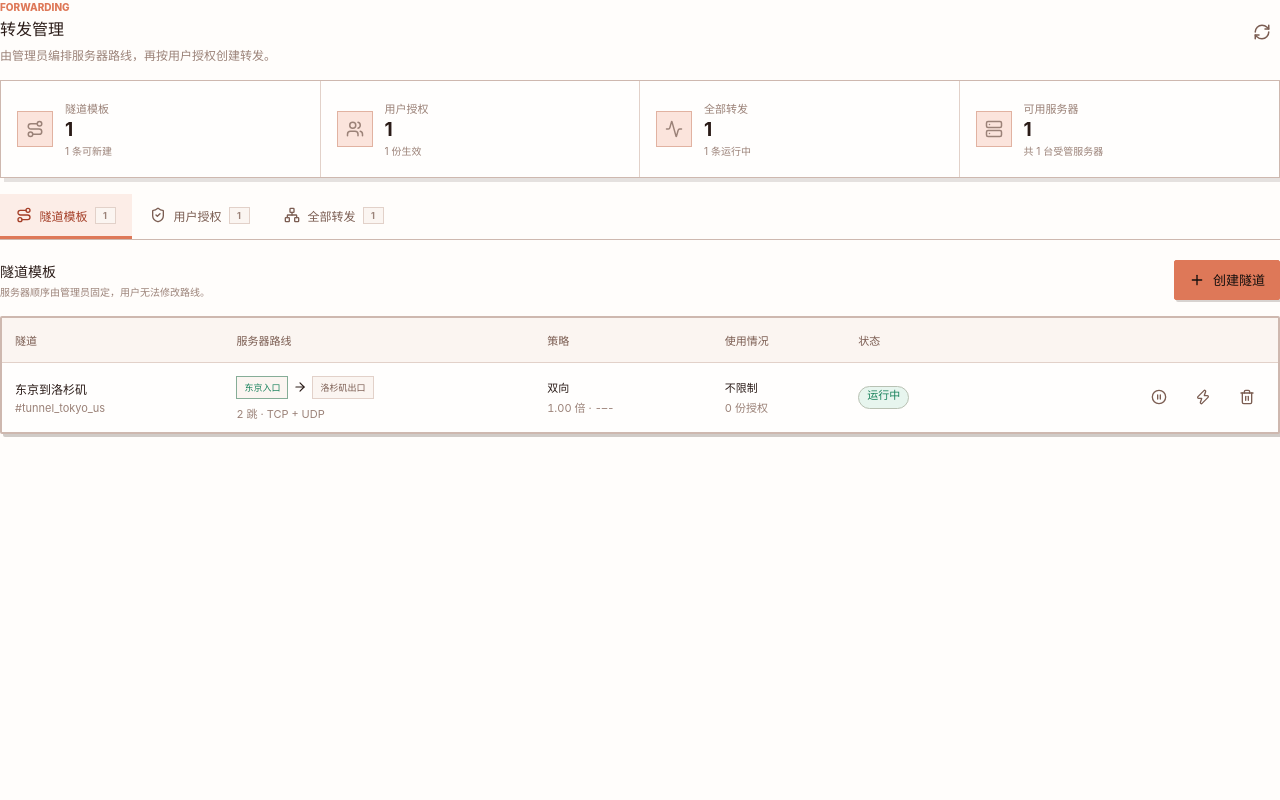
Test: administrator tunnel composition › keeps successful admin data usable when one user's grants fail
Check: the text "东京到洛杉矶" is shown, box x1=15 y1=382 x2=87 y2=396
Click the tab "用户授权 1": (200, 216) x1=134 y1=194 x2=266 y2=239
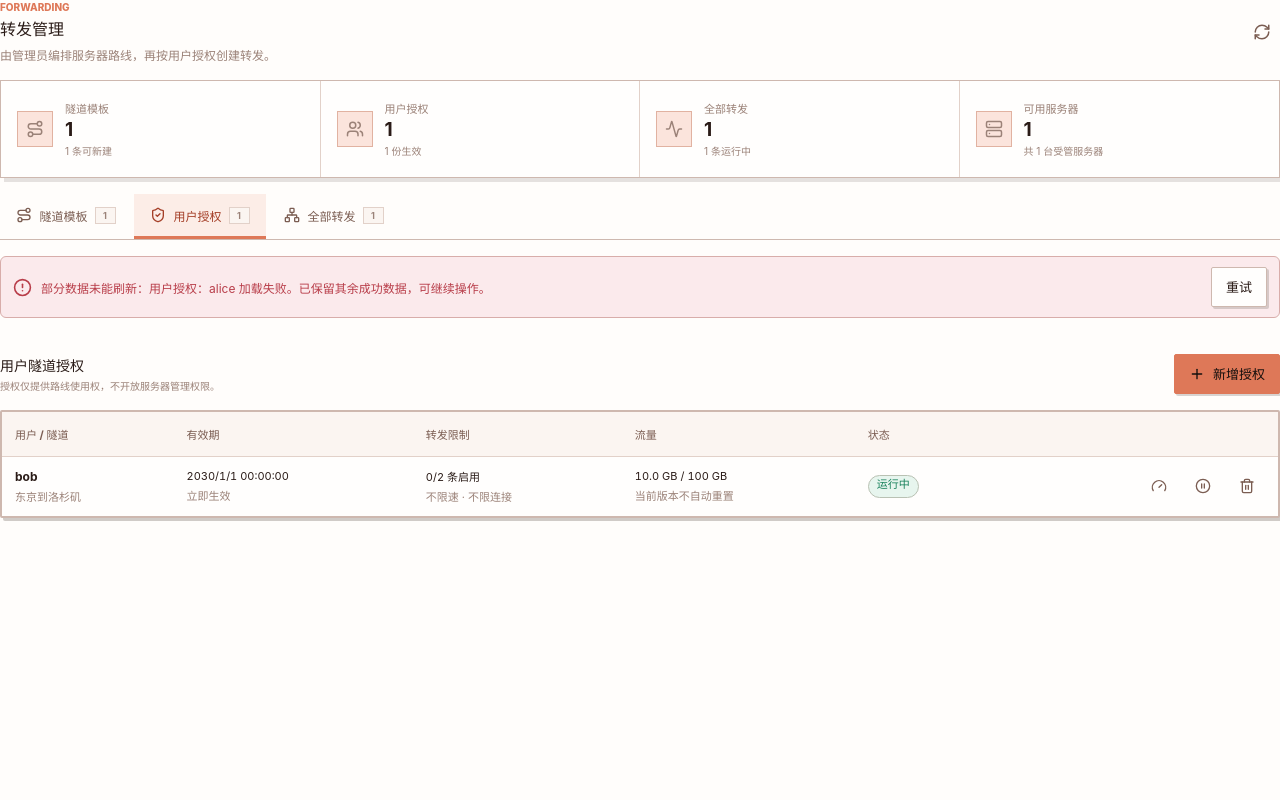
Check: the message shows "用户授权：alice 加载失败", box x1=41 y1=280 x2=491 y2=296
Check: the text "bob" is shown, box x1=15 y1=469 x2=38 y2=484
Click the button "新增授权": (1227, 374) x1=1174 y1=354 x2=1279 y2=394
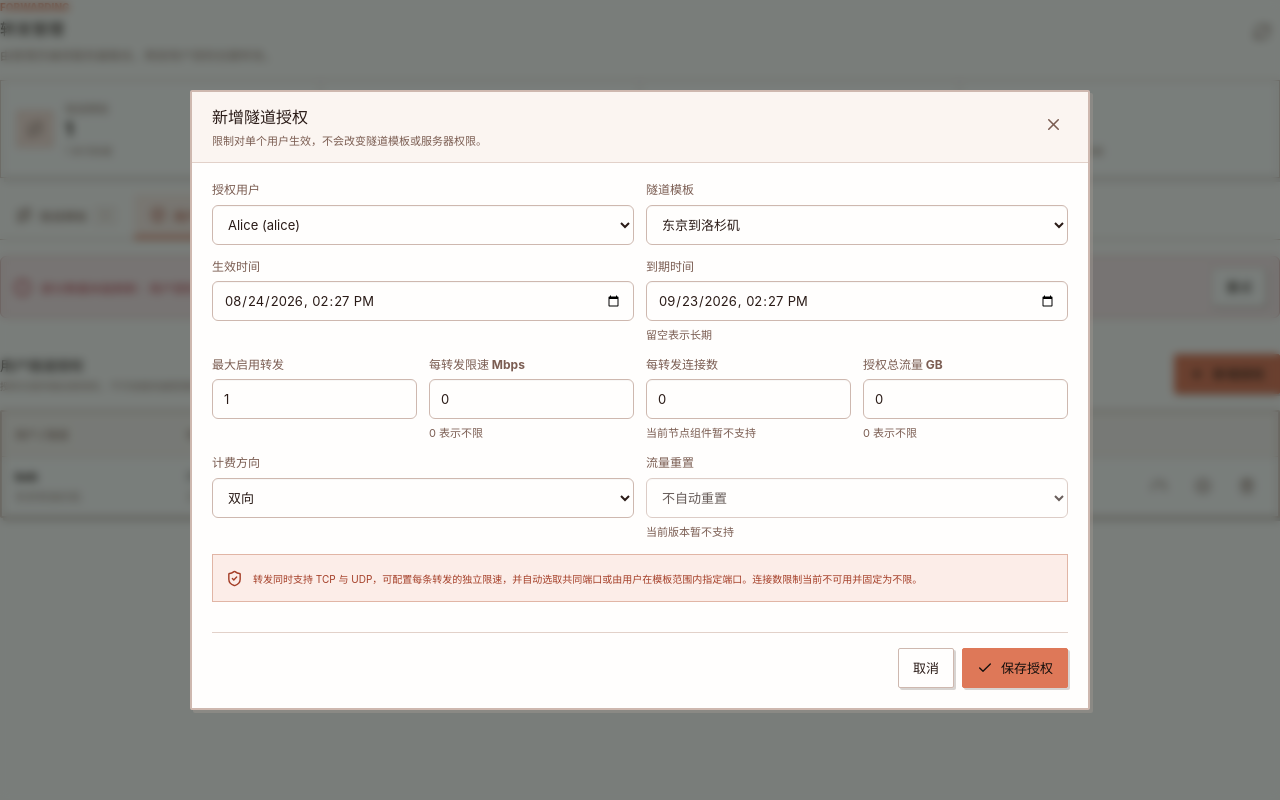
Check: the dialog "新增隧道授权" is shown, box x1=190 y1=90 x2=1090 y2=710
Click the button "取消": (926, 668) x1=898 y1=648 x2=954 y2=688
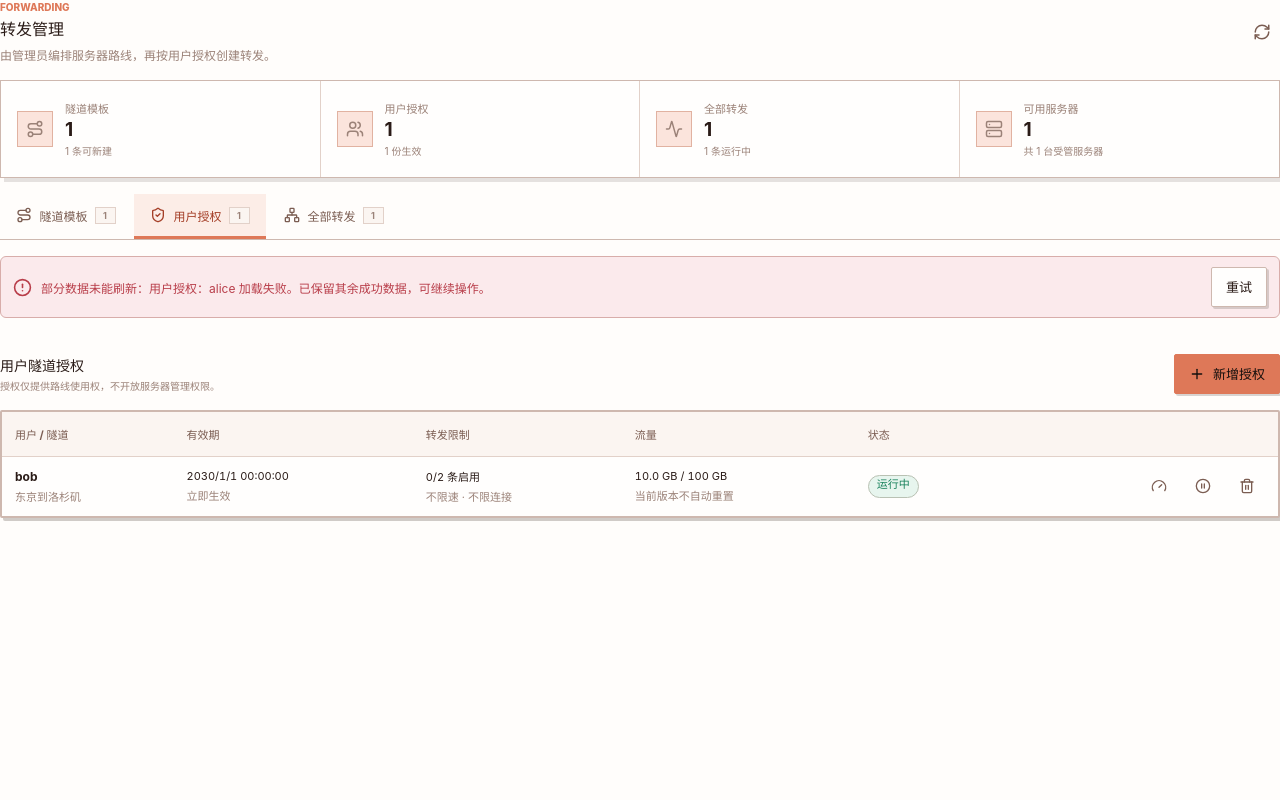
Click the tab "全部转发 1": (334, 216) x1=268 y1=194 x2=400 y2=239
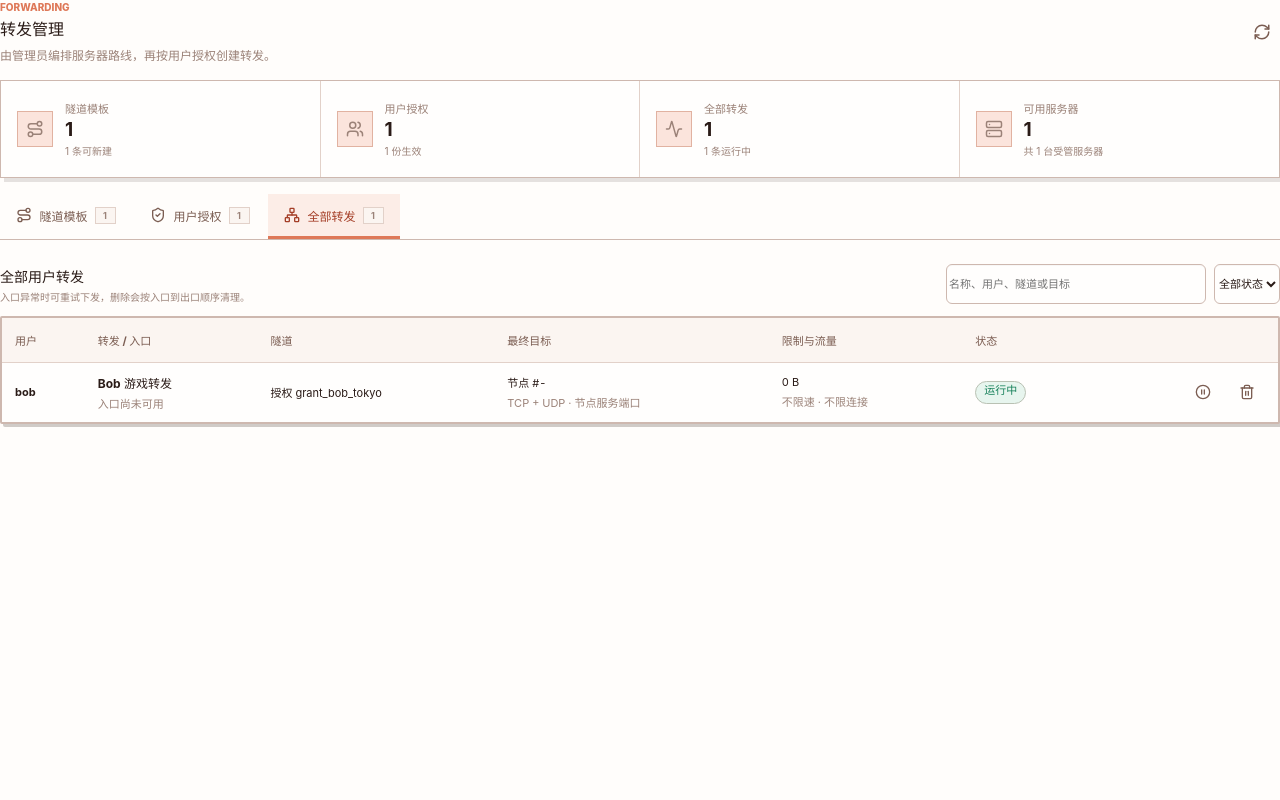
Check: the text "Bob 游戏转发" is shown, box x1=98 y1=376 x2=172 y2=391
